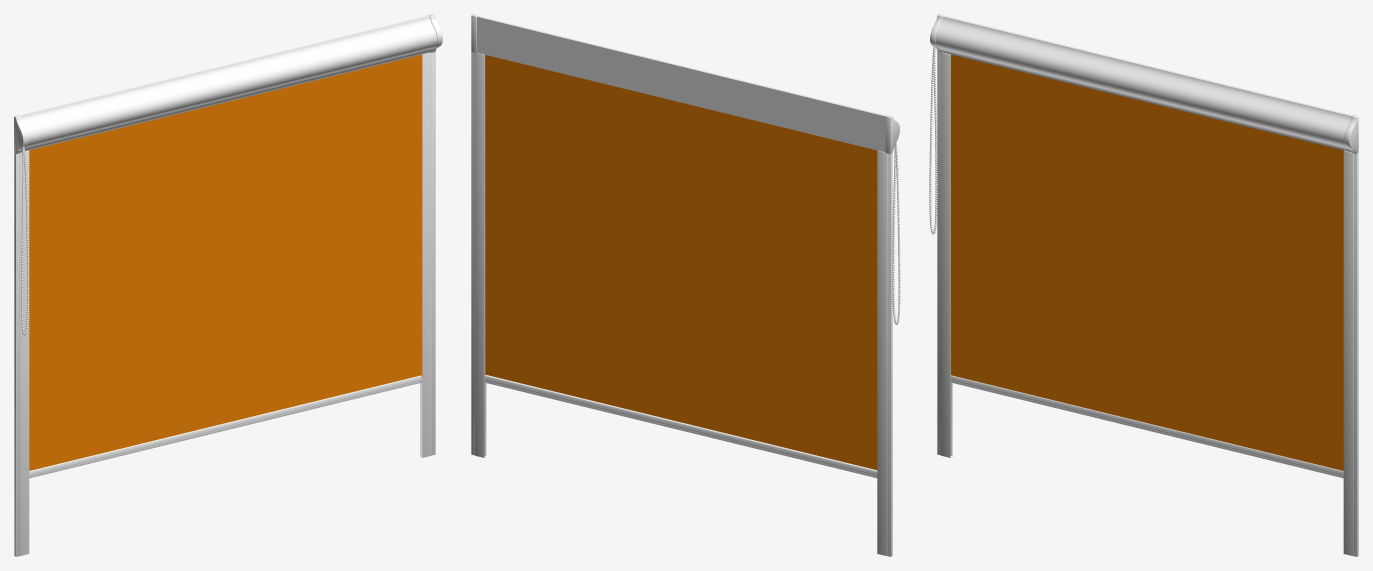
The model's file is Glasleistenrollo.glb.
3 views of the same model, side by side, from view 1: azimuth 30°, elevation 25°; view 2: azimuth 150°, elevation 25°; view 3: azimuth 330°, elevation 25° (orthographic).
Parts seen in each view (by area): view 1: Stoff.001, Kassette_1, Cube.001, Cube.004, Cube.007, Sphere; view 2: Stoff.001, Kassette_1, Cube.001, Cube.004, Cube.007, Sphere; view 3: Stoff.001, Kassette_1, Cube.004, Cube.001, Cube.007, Sphere.
Boxes of the visible parts, box(x1,y1,x2,y2) form: Stoff.001: box(29, 54, 422, 470); Kassette_1: box(20, 16, 437, 152); Cube.001: box(14, 150, 29, 556); Cube.004: box(420, 52, 435, 457); Cube.007: box(29, 375, 421, 477); Sphere: box(21, 146, 29, 335); Stoff.001: box(485, 55, 877, 469); Kassette_1: box(477, 16, 886, 152); Cube.001: box(877, 150, 892, 556); Cube.004: box(471, 52, 486, 457); Cube.007: box(485, 375, 877, 478); Sphere: box(892, 142, 900, 324); Stoff.001: box(951, 54, 1343, 470); Kassette_1: box(935, 15, 1352, 151); Cube.004: box(1343, 150, 1358, 556); Cube.001: box(937, 52, 952, 457); Cube.007: box(951, 375, 1343, 477); Sphere: box(929, 44, 937, 234).
Bounding box in the file's own units: 1 × 1 × 0.0385.
3 materials, 1 textured.
